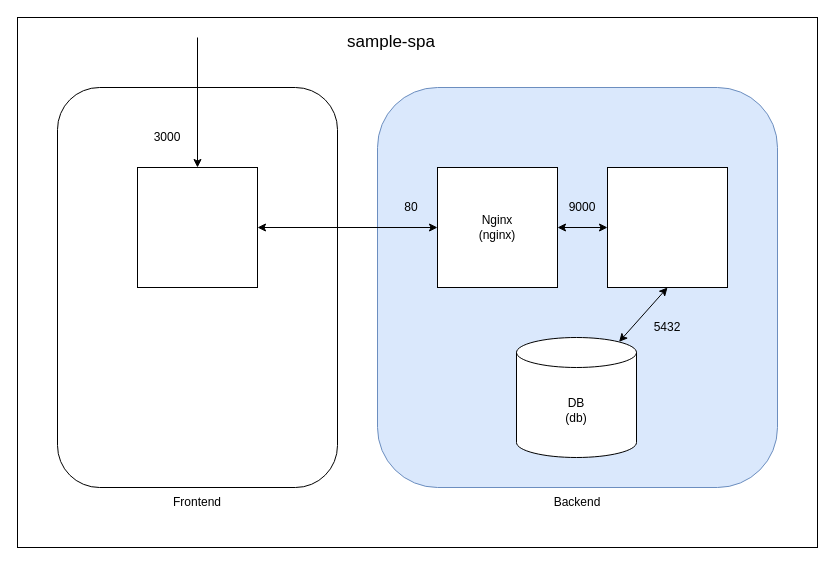
Image size: 835x565. Some labels were removed from this diagram. Each missing label, with the centre of its shape:
"Laravel (api)" belongs at point 667,227.
"Nuxt (web)" belongs at point 197,227.
